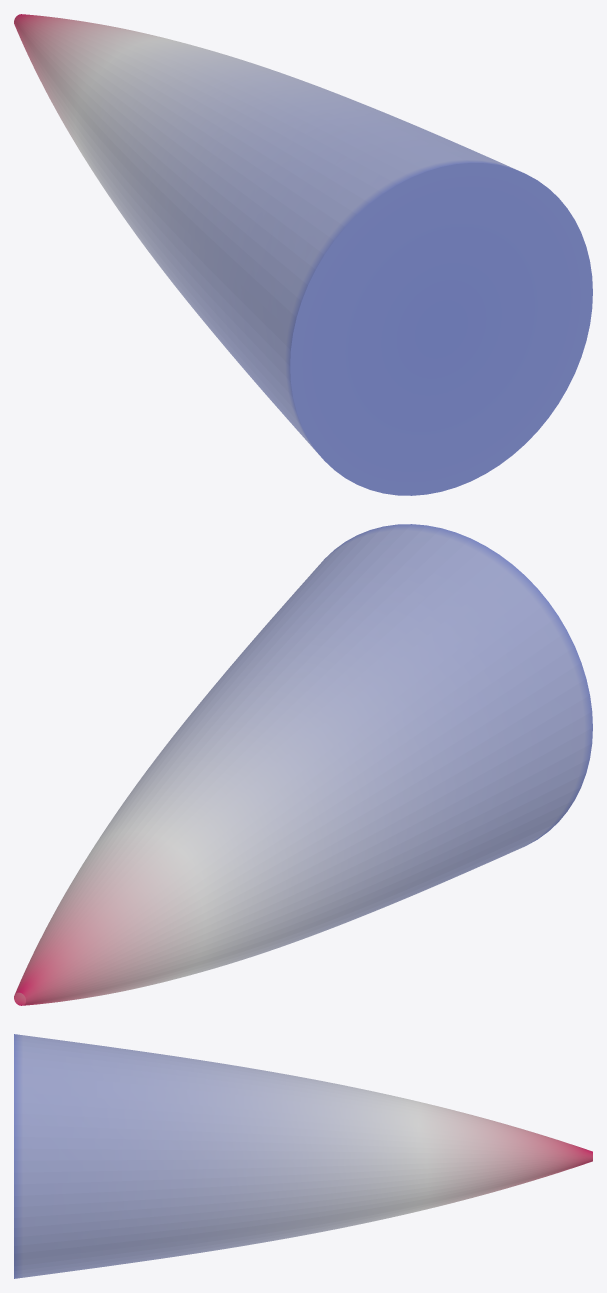
The model's file is frame_014_unlit.glb.
The picture shows the model from 3 angles, top to bottom: view 1: azimuth 30°, elevation 25°; view 2: azimuth 150°, elevation 25°; view 3: azimuth 270°, elevation 25°; orthographic projection. The views are drawn at different scales.
Visible parts, largest first — view 1: geometry_0; view 2: geometry_0; view 3: geometry_0.
Boxes of the visible parts, x1=… form: geometry_0: x1=14, y1=14, x2=592, y2=495; geometry_0: x1=14, y1=524, x2=592, y2=1005; geometry_0: x1=14, y1=1034, x2=592, y2=1278.
Bounding box in the file's own units: 0.4148 × 0.4251 × 1.
